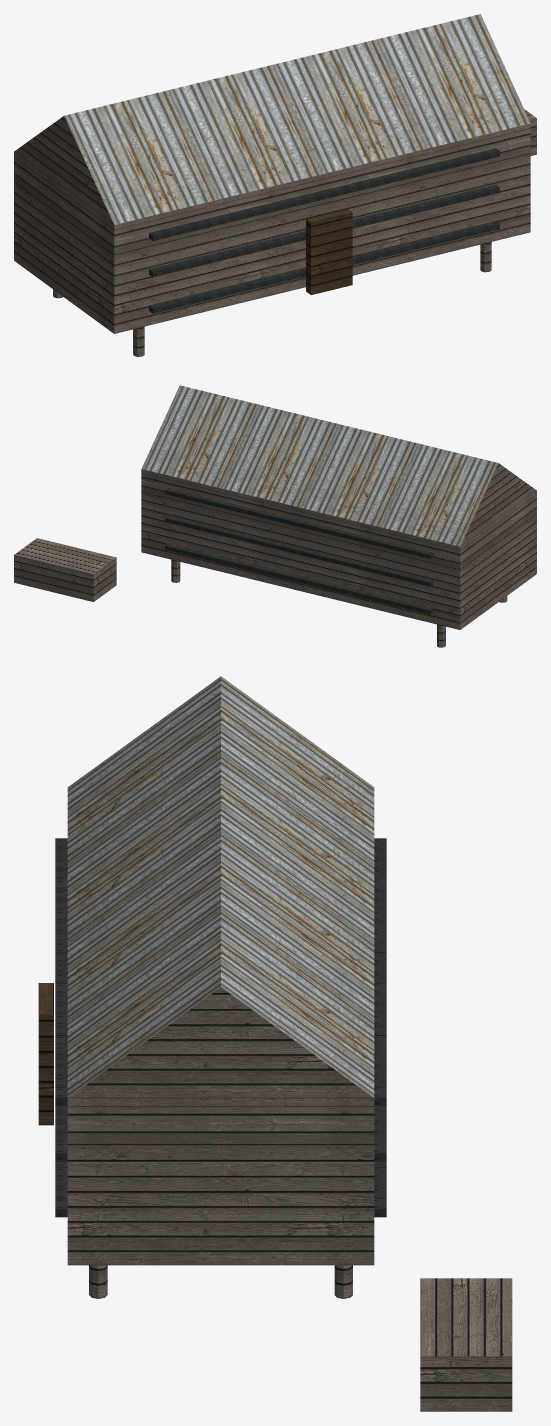
Rendered from corn-crib_lod0.gltf.
3 renders of one model, top to bottom at view 1: azimuth 30°, elevation 25°; view 2: azimuth 150°, elevation 25°; view 3: azimuth 270°, elevation 25°, orthographic. The views are drawn at different scales.
Parts seen in each view (by area): view 1: corn-crib_roof, corn-crib_walls, corn-crib_fen_14-steel-panel_0_t, corn-crib_gable_ends, corn-crib_fen_18-timber-siding_1_t; view 2: corn-crib_roof, corn-crib_walls, corn-crib_fen_14-steel-panel_0_t, corn-crib__wagon, corn-crib_gable_ends; view 3: corn-crib_roof, corn-crib_walls, corn-crib_gable_ends, corn-crib__wagon, corn-crib_fen_14-steel-panel_0_t, corn-crib_fen_18-timber-siding_1_t.
Part boxes in pixels (bbox=[...]): corn-crib_roof: bbox=[64, 14, 530, 224]; corn-crib_walls: bbox=[14, 123, 530, 333]; corn-crib_fen_14-steel-panel_0_t: bbox=[149, 148, 499, 313]; corn-crib_gable_ends: bbox=[14, 116, 113, 224]; corn-crib_fen_18-timber-siding_1_t: bbox=[306, 208, 352, 294]; corn-crib_roof: bbox=[141, 385, 498, 546]; corn-crib_walls: bbox=[141, 469, 536, 629]; corn-crib_fen_14-steel-panel_0_t: bbox=[165, 488, 433, 614]; corn-crib__wagon: bbox=[14, 538, 116, 601]; corn-crib_gable_ends: bbox=[460, 463, 536, 546]; corn-crib_roof: bbox=[67, 676, 374, 1097]; corn-crib_walls: bbox=[67, 1098, 374, 1265]; corn-crib_gable_ends: bbox=[68, 987, 373, 1098]; corn-crib__wagon: bbox=[420, 1278, 512, 1411]; corn-crib_fen_14-steel-panel_0_t: bbox=[55, 838, 386, 1217]; corn-crib_fen_18-timber-siding_1_t: bbox=[38, 983, 53, 1125].
Bounding box in the file's own units: 15.5 × 6 × 7.72.
